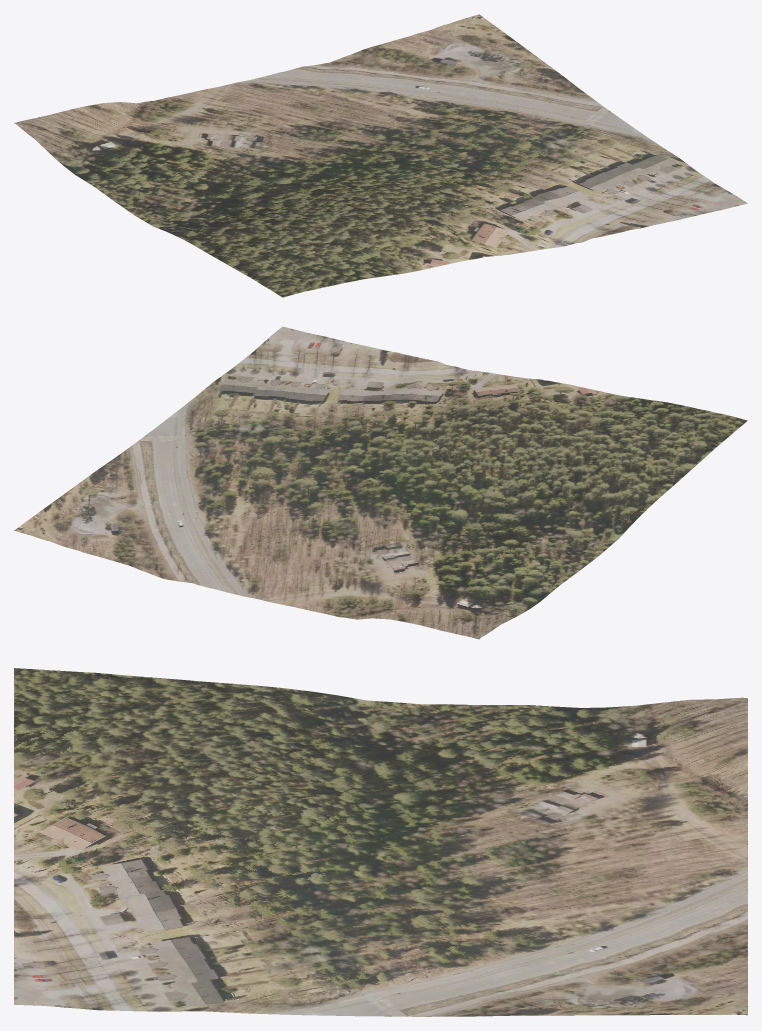
Rendered from CM_Terrain_24490254_6817336.fbx.
The picture shows the model from 3 angles, top to bottom: view 1: azimuth 30°, elevation 25°; view 2: azimuth 150°, elevation 25°; view 3: azimuth 270°, elevation 25°; orthographic projection. The views are drawn at different scales.
Parts seen in each view (by area): view 1: CM_Terrain_24490254_6817336_LOD0; view 2: CM_Terrain_24490254_6817336_LOD0; view 3: CM_Terrain_24490254_6817336_LOD0.
Boxes of the visible parts, box(x1,y1,x2,y2) form: CM_Terrain_24490254_6817336_LOD0: box(14, 14, 747, 297); CM_Terrain_24490254_6817336_LOD0: box(14, 326, 747, 639); CM_Terrain_24490254_6817336_LOD0: box(14, 668, 747, 1016).
Size of what is drawn, in the model's own units: 205 by 16.58 by 205.
